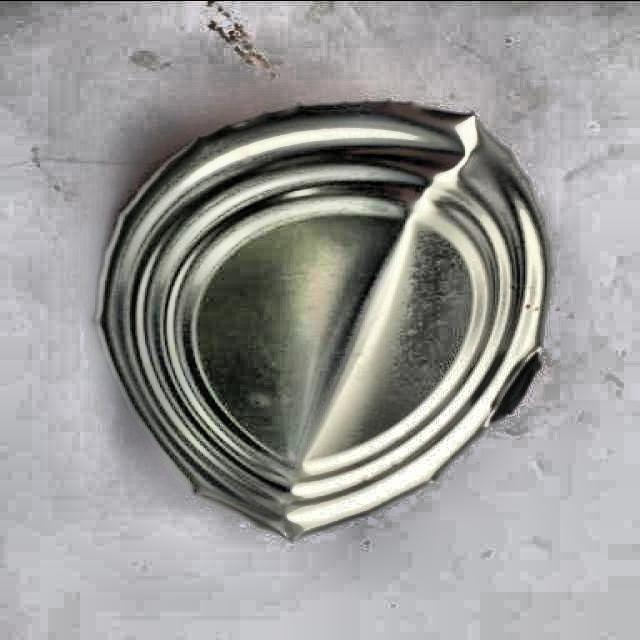metal: (92, 100, 554, 545)
